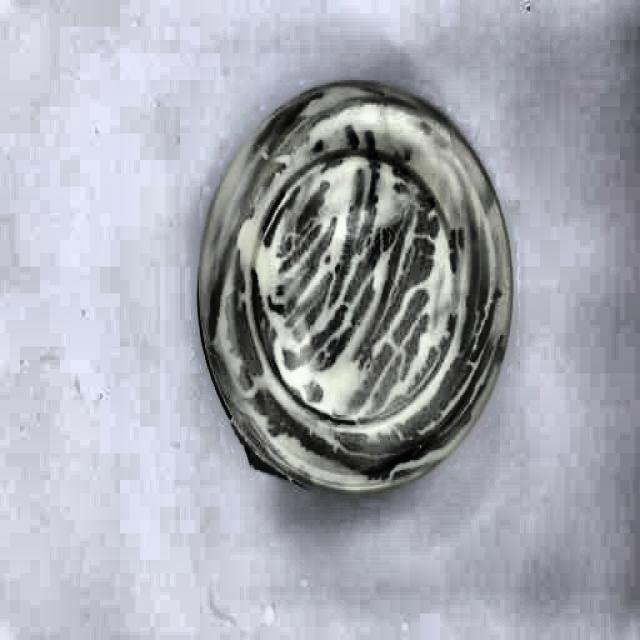plastic: (207, 76, 518, 493)
